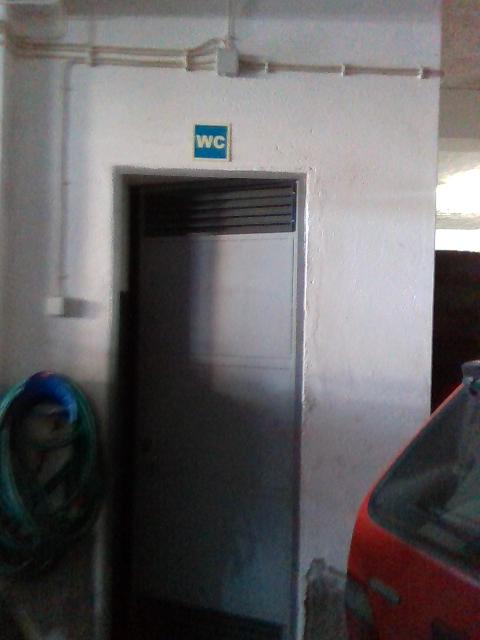closed_door: (123, 180, 297, 639)
